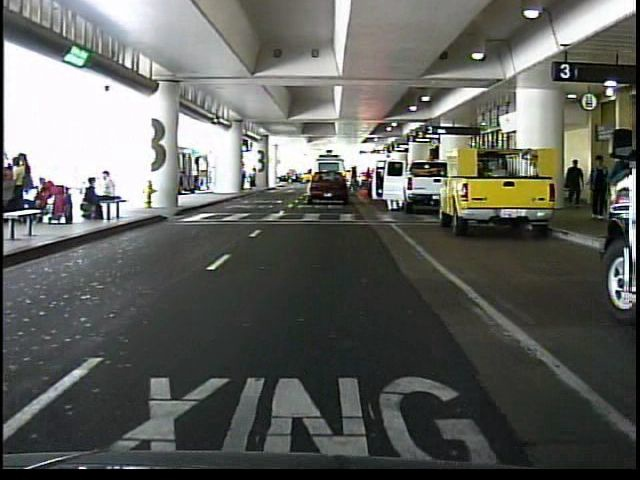person: (584, 146, 608, 220), (561, 156, 586, 213), (249, 167, 260, 191)
